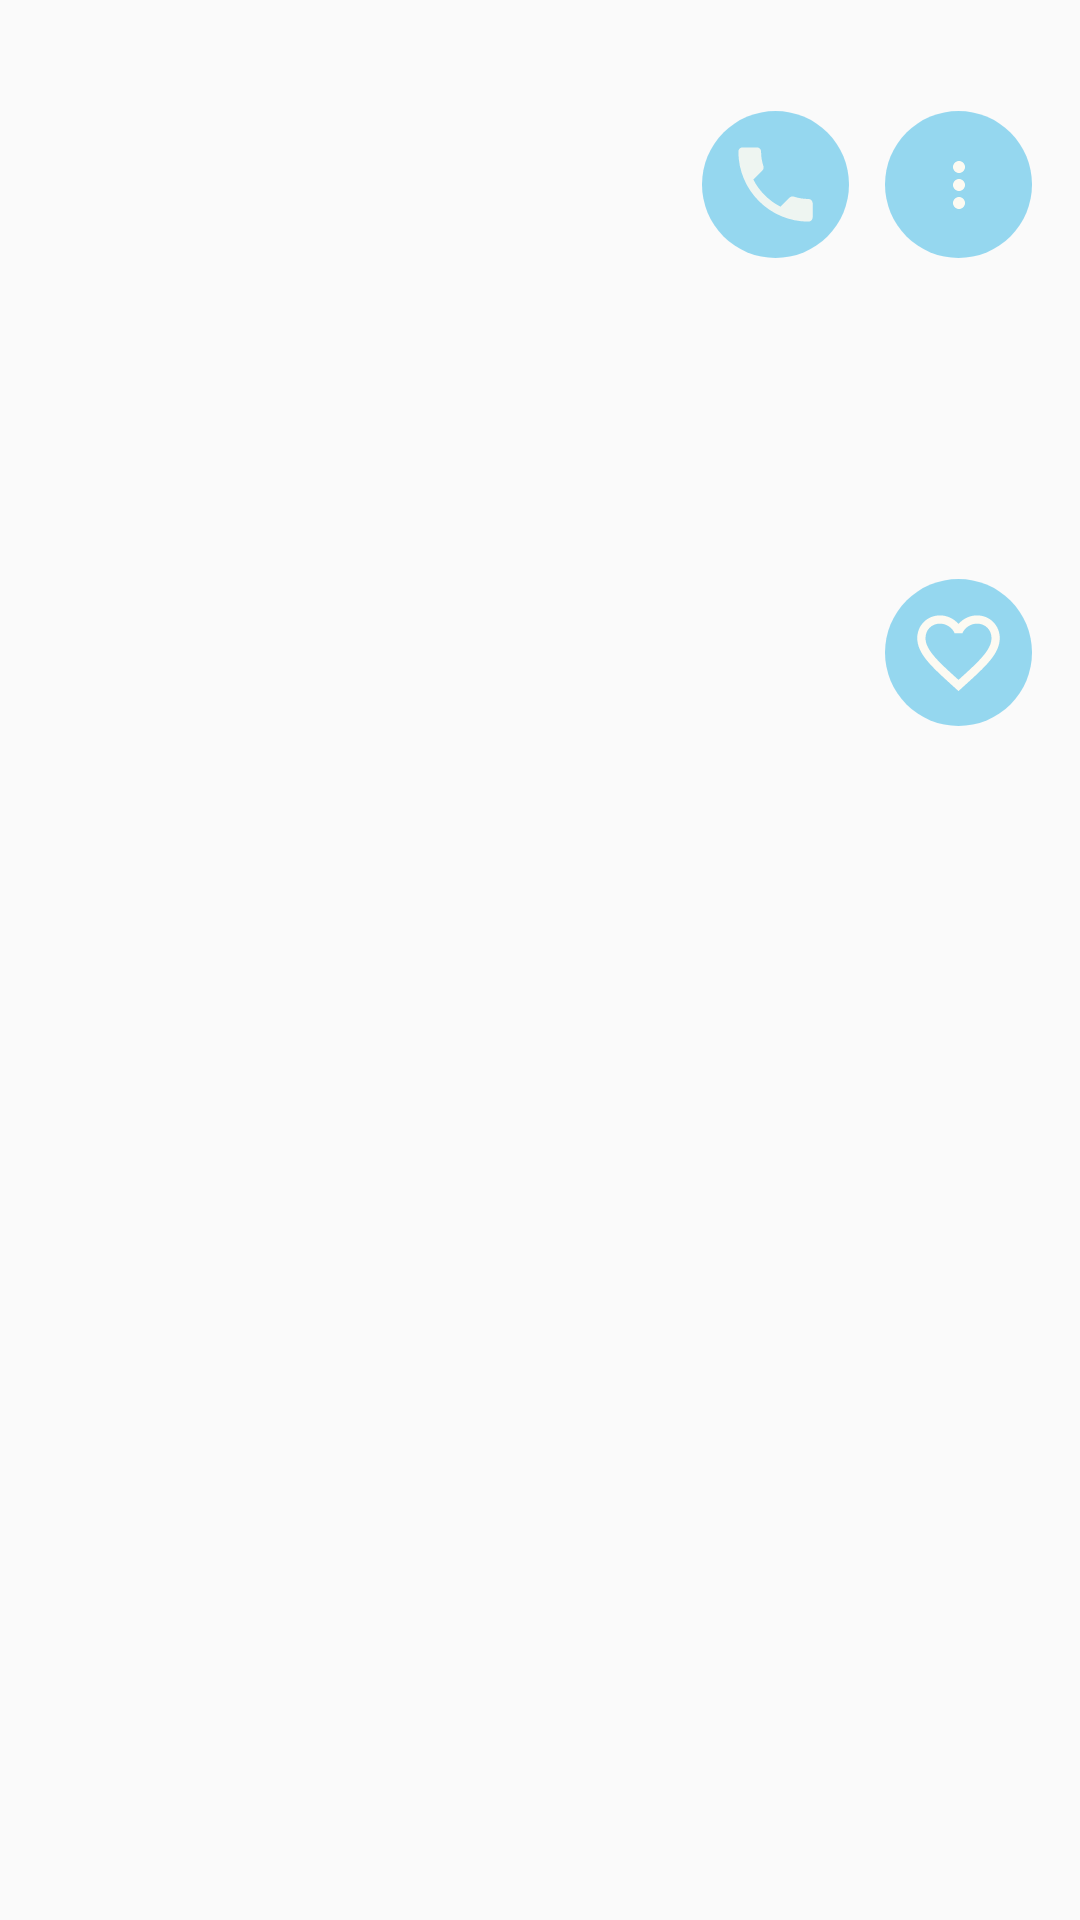

Icons on this 1080 × 1920 Android screen, each with the point to tap as (x=x, y=y):
favorite border: (x=958, y=652)
more vert: (x=959, y=185)
phone: (x=775, y=184)
